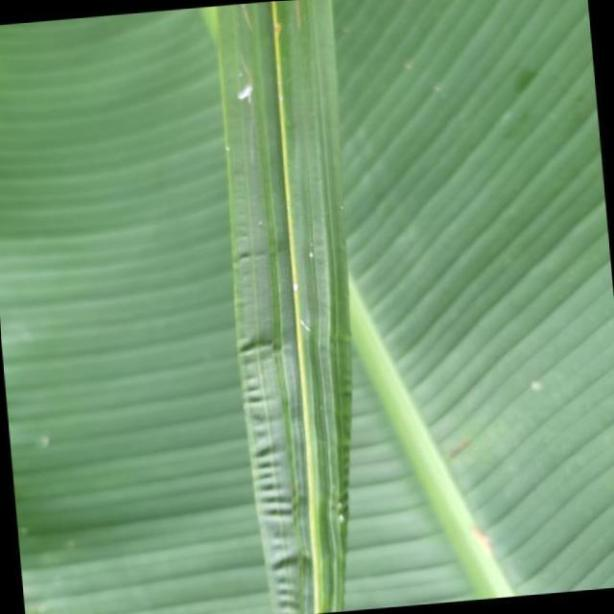Boron: (205, 0, 353, 614)
